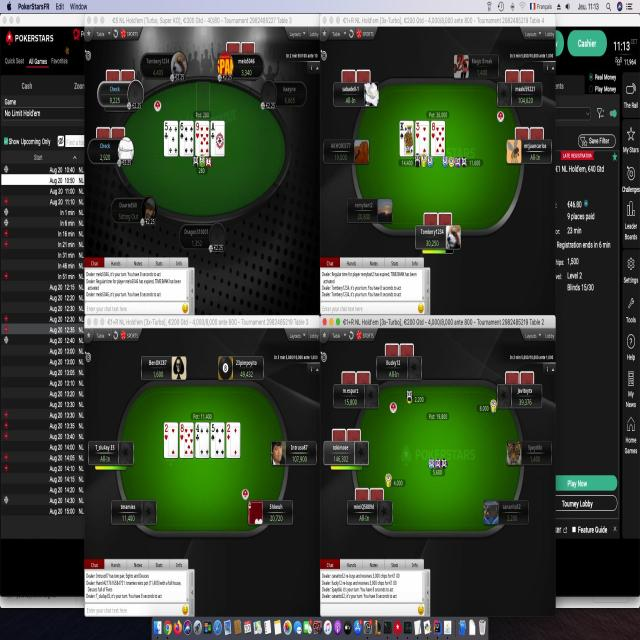2D: (224, 421, 231, 441)
2H: (163, 417, 170, 445)
3H: (416, 120, 420, 143)
4C: (195, 422, 200, 443)
5C: (163, 120, 169, 143)
5S: (210, 418, 216, 442)
6S: (180, 121, 186, 140)
8H: (431, 119, 436, 139), (179, 420, 184, 440)
9H: (195, 119, 201, 139)
AC: (210, 122, 216, 142)
KS: (396, 119, 405, 142)
